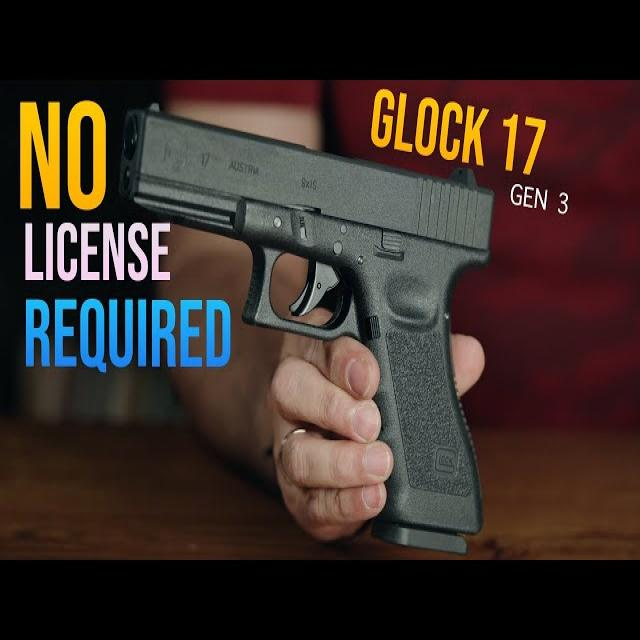HandGun: (120, 108, 495, 556)
